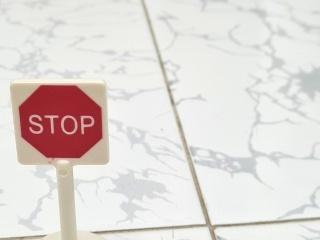stop: (4, 71, 114, 172)
